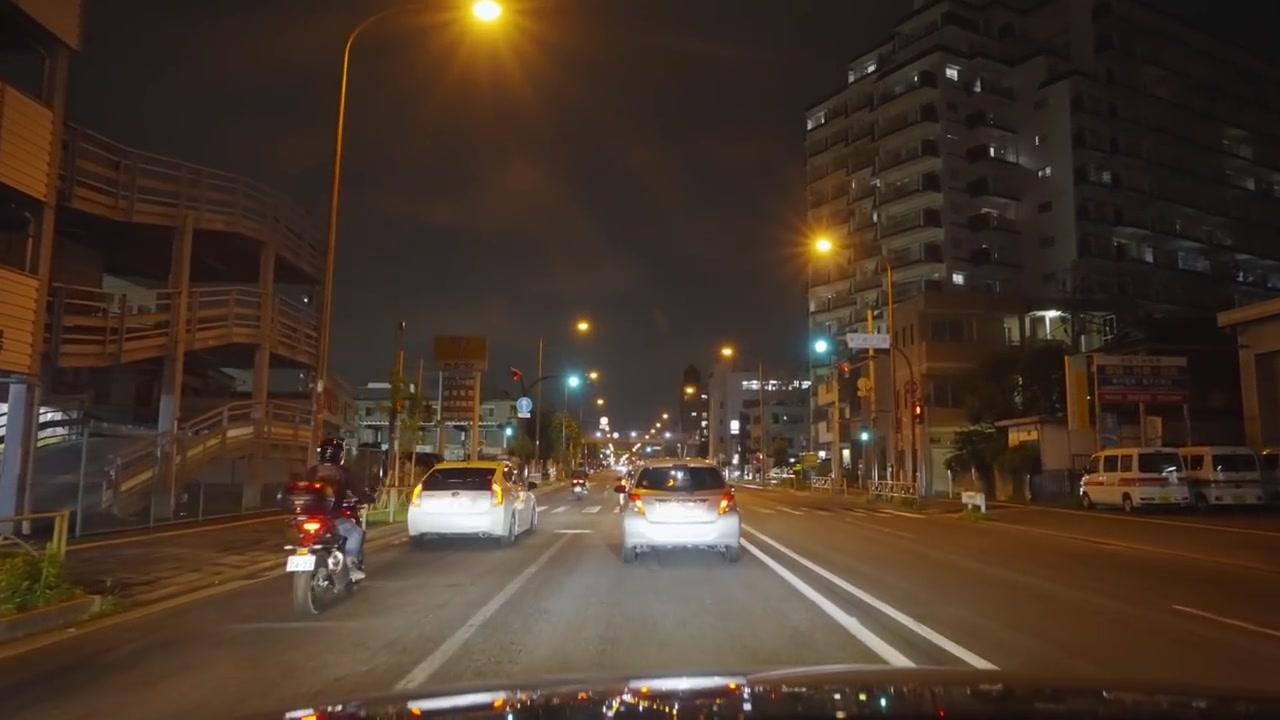car: (621, 461, 742, 565), (408, 460, 535, 547), (1079, 447, 1191, 512), (1176, 446, 1265, 510), (1258, 448, 1280, 505), (571, 475, 588, 497)
motorcycle: (282, 482, 366, 615)
person: (304, 444, 369, 574)
traffic light: (812, 324, 833, 360), (913, 403, 925, 424), (858, 426, 872, 443)
